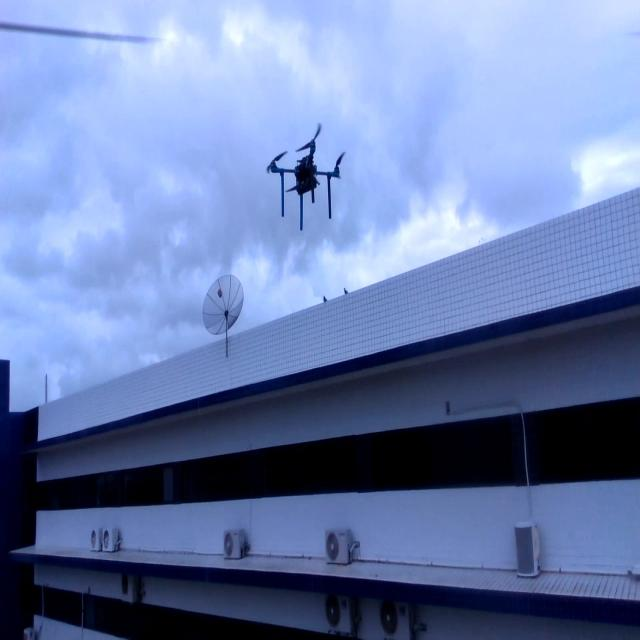-uav-: (262, 123, 348, 236)
